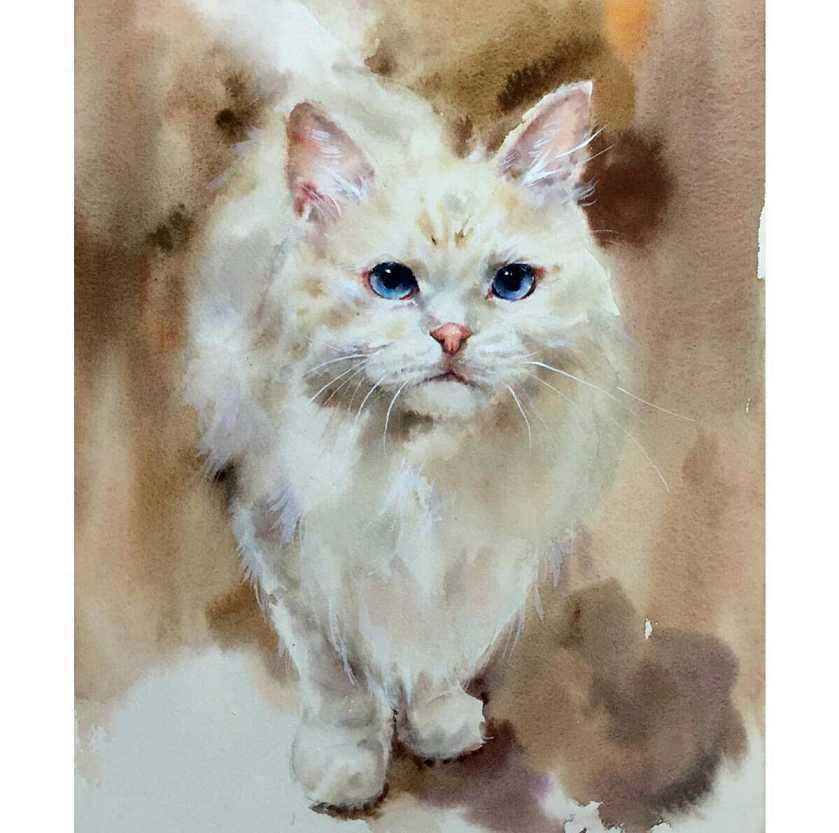cat: (165, 16, 633, 816)
